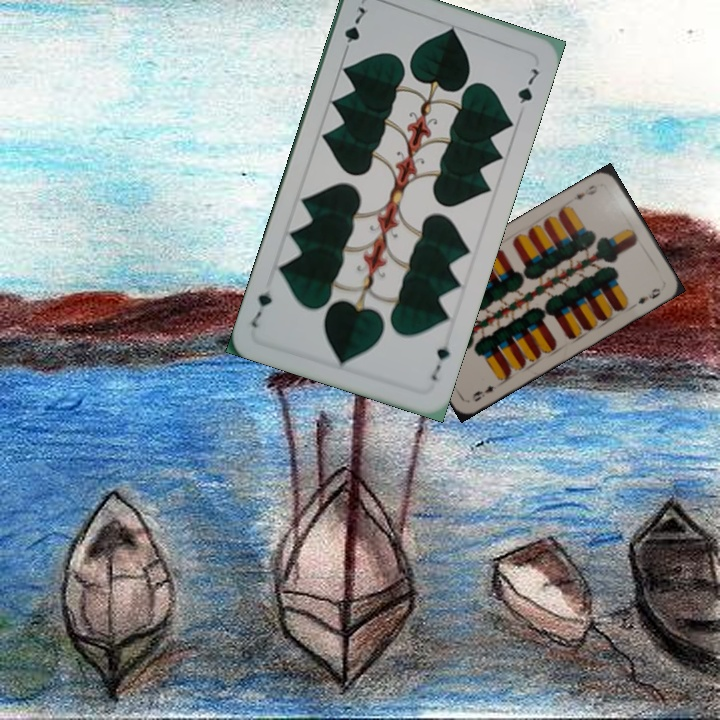E9: (468, 381, 499, 404), (569, 181, 600, 203)
G7: (339, 3, 371, 58), (427, 342, 453, 383)
